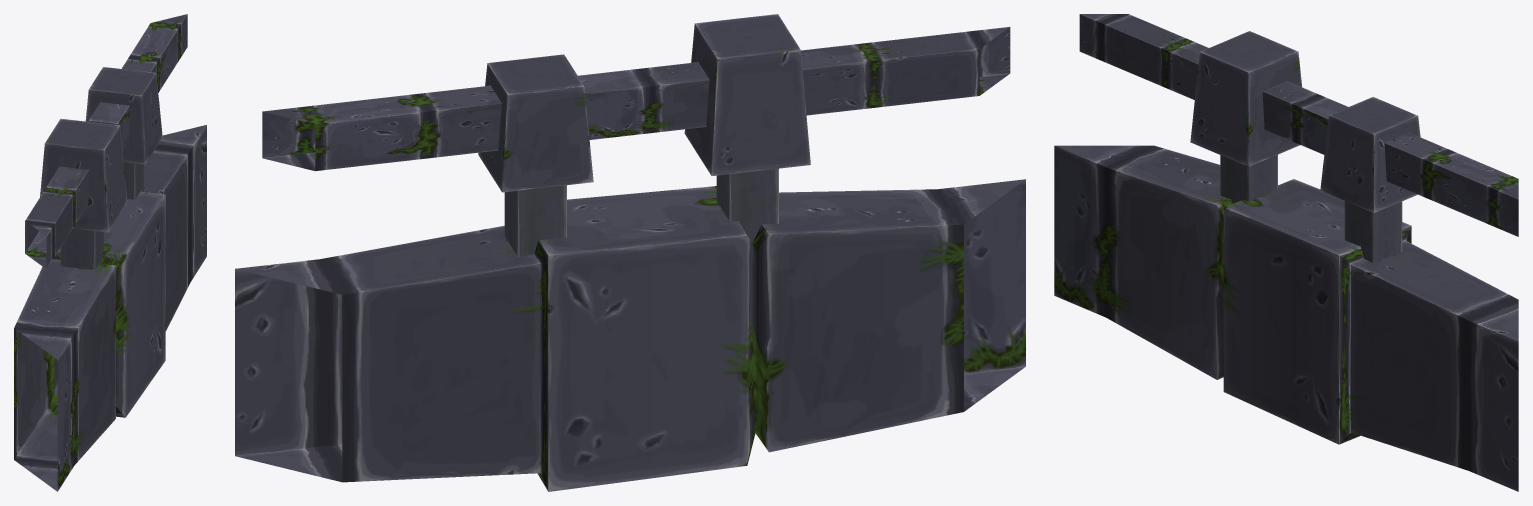
The model's file is MOD_Railing_01_angle_2.fbx.
The picture shows the model from 3 angles, left to right: view 1: azimuth 30°, elevation 25°; view 2: azimuth 150°, elevation 25°; view 3: azimuth 270°, elevation 25°; orthographic projection. The views are drawn at different scales.
Parts seen in each view (by area): view 1: MOD_Railing_01_angle_2; view 2: MOD_Railing_01_angle_2; view 3: MOD_Railing_01_angle_2.
Part boxes in pixels (<box>): MOD_Railing_01_angle_2: <box>14,14,206,491</box>; MOD_Railing_01_angle_2: <box>235,14,1025,491</box>; MOD_Railing_01_angle_2: <box>1054,14,1518,491</box>.
Size of the model in its own units: 224 by 173 by 224.
